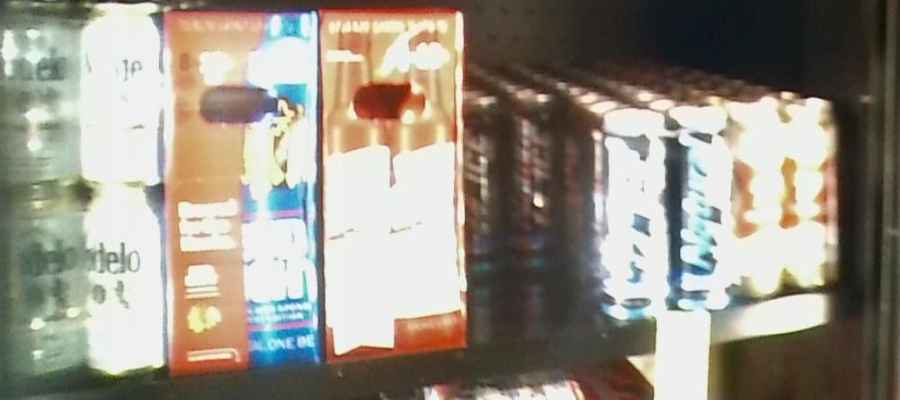bottle: (1, 5, 168, 378), (168, 5, 319, 374), (318, 7, 462, 360), (603, 112, 730, 315), (734, 104, 844, 292), (460, 97, 561, 267)
